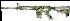gun: (1, 1, 70, 21)
